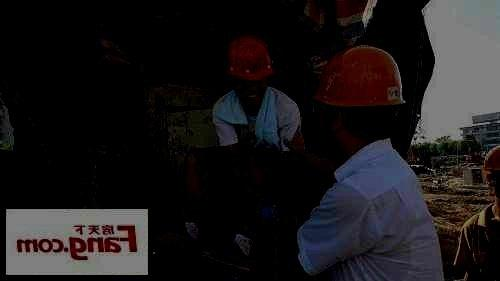helmet: (311, 45, 405, 157), (228, 36, 272, 101), (480, 146, 500, 206)
